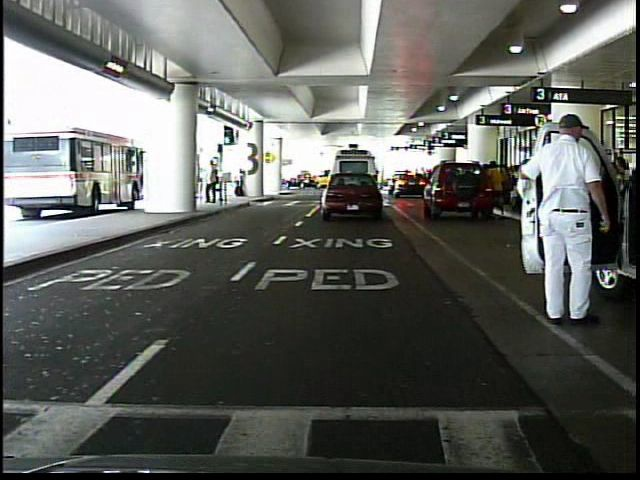person: (515, 109, 612, 328), (569, 149, 599, 224), (490, 156, 509, 221), (204, 155, 220, 207), (234, 164, 250, 200)
